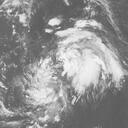cyclone: (59, 33, 115, 92)
